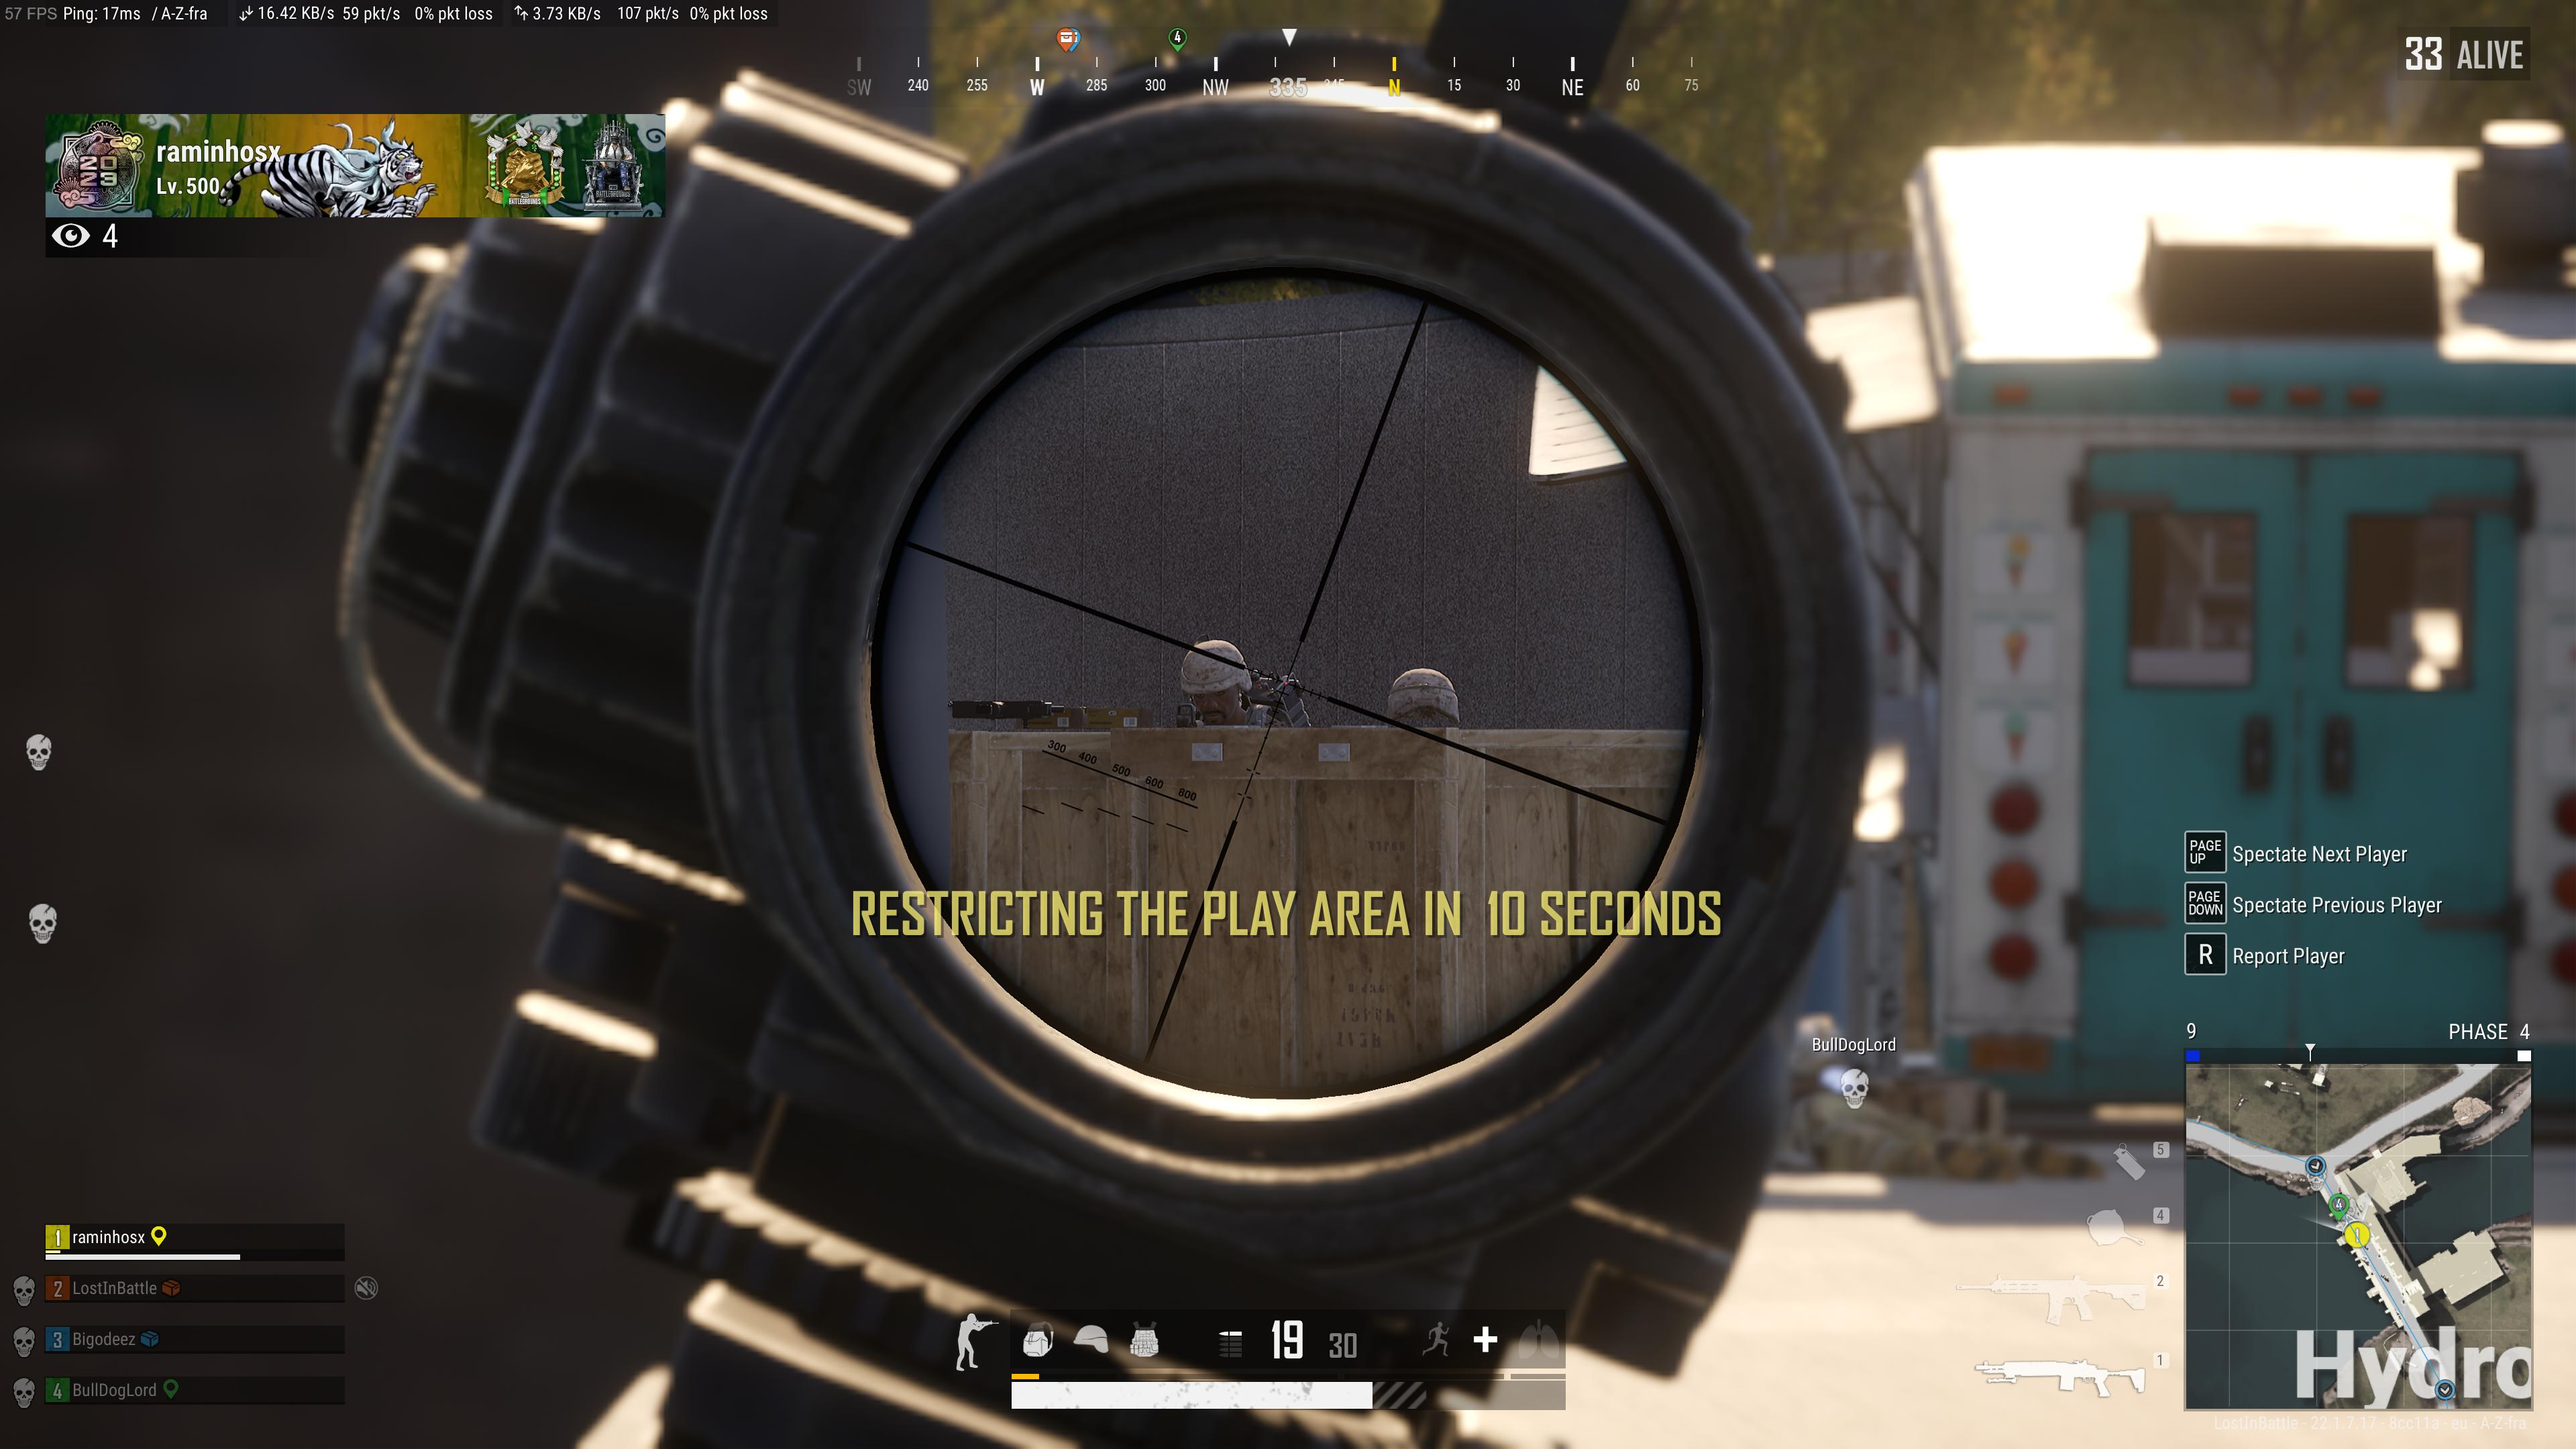enemy_head: (1178, 639, 1253, 727)
